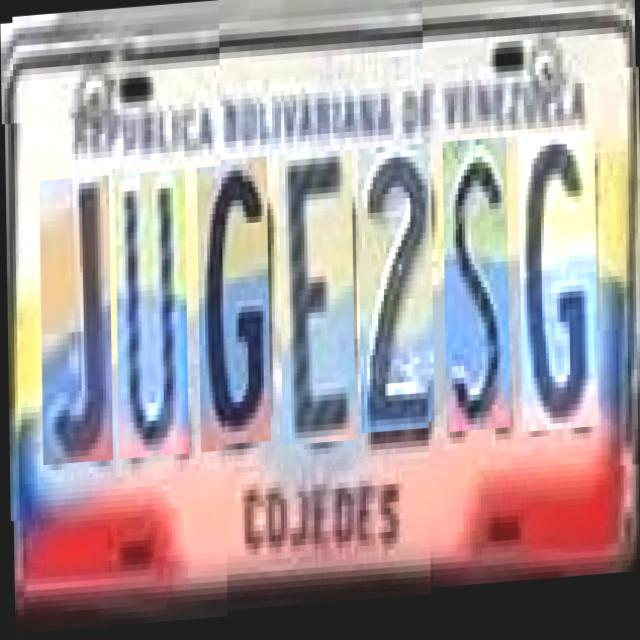2: (357, 144, 433, 433)
E: (278, 150, 354, 444)
G: (518, 140, 597, 441), (196, 155, 269, 444)
J: (38, 165, 112, 454)
S: (442, 146, 509, 440)
U: (114, 160, 187, 449)
